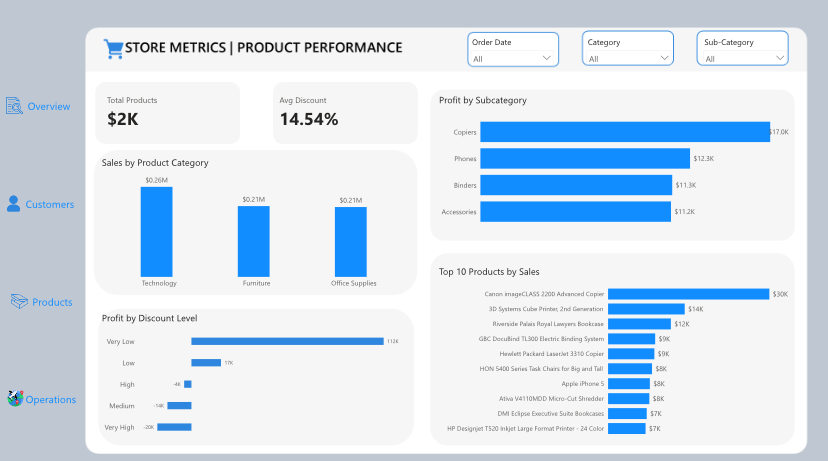

This screenshot's page, from the dashboard's own definition file:
{"tool":"powerbi","page":{"name":"Product Performance","canvas":[1920,1080],"ordinal":2},"visuals":[{"type":"cardVisual","fields":{"Data":["Dax Measures.Total Products"]},"box":[231.8,201.6,309.9,115.9],"z":0},{"type":"cardVisual","fields":{"Data":["Dax Measures.Avg Discount"]},"box":[629.9,201.6,309.9,115.9],"z":1000},{"type":"clusteredColumnChart","title":"Sales by Product Category","fields":{"Category":["Products.Category"],"Y":["Dax Measures.Total Sales"]},"box":[231.8,360.3,728.2,317.5],"z":2000},{"type":"clusteredBarChart","title":"Profit by Discount Level","fields":{"Y":["Sum(Orders.Profit)"],"Category":["Orders.Discount Group"]},"box":[231.1,721.4,708.5,304.6],"z":3000},{"type":"clusteredBarChart","title":"Profit by Subcategory","fields":{"Y":["Dax Measures.Total Profit"],"Category":["Products.Sub-Category"]},"box":[1013,216,820.8,330.5],"z":4000},{"type":"slicer","fields":{"Values":["Orders.Order Date.Variation.Date Hierarchy.Year","Orders.Order Date.Variation.Date Hierarchy.Month"]},"box":[1080.9,78.1,211.7,93.2],"z":5000},{"type":"slicer","fields":{"Values":["Products.Category"]},"box":[1350.6,78.1,216.7,73.1],"z":6000},{"type":"slicer","fields":{"Values":["Products.Sub-Category"]},"box":[1620.2,78.1,214.2,73.1],"z":7000},{"type":"clusteredBarChart","title":"Top 10 Products by Sales","fields":{"Y":["Dax Measures.Total Sales"],"Category":["Products.Product Name"]},"box":[1013,613.4,820.8,412.6],"z":8000},{"type":"actionButton","box":[5,199.6,181.9,90.9],"z":10000},{"type":"actionButton","box":[5,655.7,181.9,85.9],"z":11000},{"type":"actionButton","box":[5.6,880.8,180.6,86.6],"z":12000},{"type":"actionButton","box":[4.4,429.8,183.1,86.6],"z":13000}]}

Visuals, with their boxes on the page's 1920x1080 design canvas (x1, y1, x2, y2). These are canvas units, not pixel positions in the 828x461 screenshot, which may show the page scaled, cropped or inside an application window:
cardVisual - Dax Measures.Total Products: (232,202,542,318)
cardVisual - Dax Measures.Avg Discount: (630,202,940,318)
"Sales by Product Category" clusteredColumnChart: (232,360,960,678)
"Profit by Discount Level" clusteredBarChart: (231,721,940,1026)
"Profit by Subcategory" clusteredBarChart: (1013,216,1834,546)
slicer - Orders.Order Date.Variation.Date Hierarchy.Year x Orders.Order Date.Variation.Date Hierarchy.Month: (1081,78,1293,171)
slicer - Products.Category: (1351,78,1567,151)
slicer - Products.Sub-Category: (1620,78,1834,151)
"Top 10 Products by Sales" clusteredBarChart: (1013,613,1834,1026)
actionButton: (5,200,187,290)
actionButton: (5,656,187,742)
actionButton: (6,881,186,967)
actionButton: (4,430,188,516)
